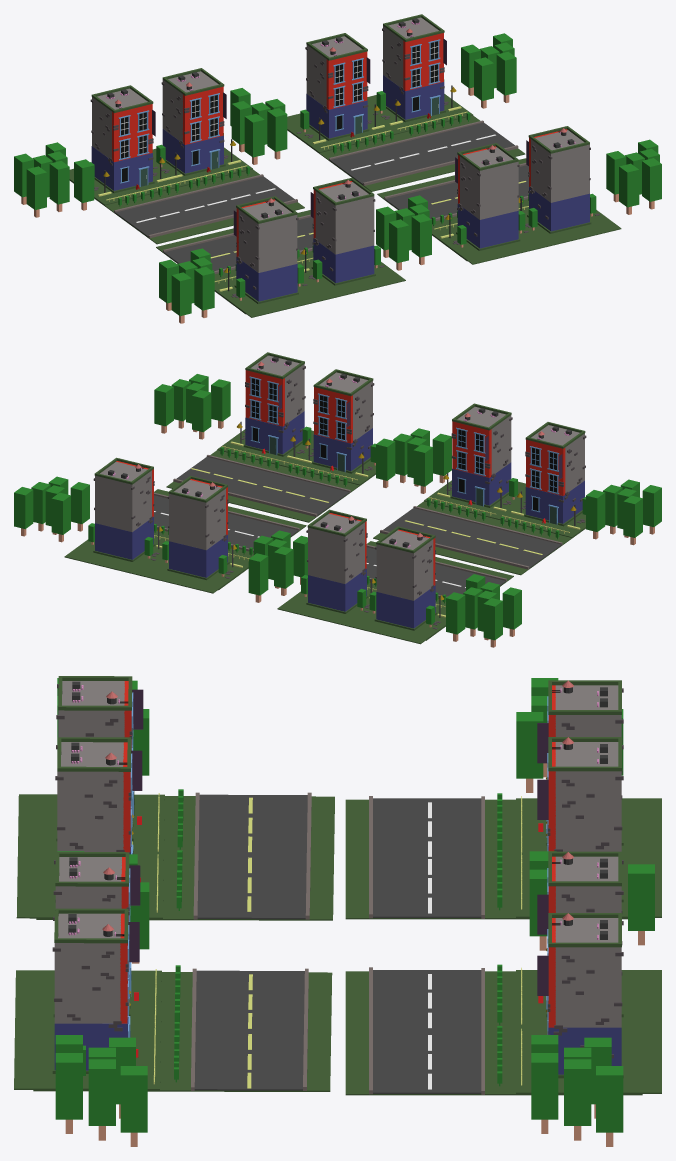
Rendered from low_poly_street.glb.
3 renders of one model, top to bottom at view 1: azimuth 30°, elevation 25°; view 2: azimuth 150°, elevation 25°; view 3: azimuth 270°, elevation 25°, orthographic. The views are drawn at different scales.
Visible parts, largest first — view 1: Cube.494_527, Cube.660_690, Cube.328_364, Cube.161_201, Cube.081_104, Cube.003_4, Cube.123_153, Cube.035_54, Cube.662_692, Cube.664_694, Cube.498_531, Cube.332_368 (+58 smaller); view 2: Cube_0, Cube.020_50, Cube.078_100, Cube.120_149, Cube.663_693, Cube.331_367, Cube.497_530, Cube.164_204, Cube.080_103, Cube.004_5, Cube.037_55, Cube.124_154 (+53 smaller); view 3: Cube.164_204, Cube.497_530, Cube.123_153, Cube.003_4, Cube.663_693, Cube.161_201, Cube.081_104, Cube.120_149, Cube.494_527, Cube.020_50, Cube.035_54, Cube.331_367 (+43 smaller).
Part boxes in pixels (box(x1,y1,x2,y2)): Cube.494_527: box(315, 182, 374, 254); Cube.660_690: box(238, 200, 297, 272); Cube.328_364: box(460, 147, 518, 219); Cube.161_201: box(531, 130, 589, 202); Cube.081_104: box(330, 141, 438, 184); Cube.003_4: box(115, 193, 223, 236); Cube.123_153: box(407, 122, 514, 164); Cube.035_54: box(193, 176, 294, 216); Cube.662_692: box(214, 277, 328, 317); Cube.664_694: box(236, 257, 297, 301); Cube.498_531: box(313, 238, 374, 283); Cube.332_368: box(457, 204, 518, 248); Cube_0: box(376, 530, 433, 600); Cube.020_50: box(308, 514, 364, 583); Cube.078_100: box(169, 480, 225, 550); Cube.120_149: box(95, 462, 151, 532); Cube.663_693: box(457, 526, 561, 568); Cube.331_367: box(244, 475, 349, 515); Cube.497_530: box(383, 508, 487, 548); Cube.164_204: box(176, 457, 280, 495); Cube.080_103: box(138, 554, 248, 593); Cube.004_5: box(376, 585, 435, 628); Cube.037_55: box(308, 568, 366, 611); Cube.124_154: box(95, 516, 153, 559); Cube.164_204: box(194, 1027, 303, 1090); Cube.497_530: box(197, 856, 306, 919); Cube.123_153: box(373, 1031, 481, 1093); Cube.003_4: box(373, 798, 481, 860); Cube.663_693: box(198, 794, 307, 856); Cube.161_201: box(54, 913, 121, 1023); Cube.081_104: box(373, 970, 481, 1031); Cube.120_149: box(555, 918, 621, 1027); Cube.494_527: box(57, 742, 123, 851); Cube.020_50: box(555, 742, 621, 851); Cube.035_54: box(373, 855, 481, 917); Cube.331_367: box(195, 970, 304, 1032).
Size of what is drawn, in the model's own units: 258 by 44.69 by 177.
